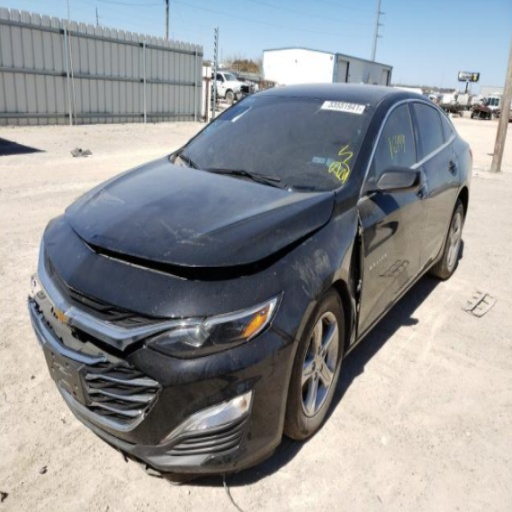dent: (332, 217, 364, 348)
scratch: (378, 258, 400, 277)
